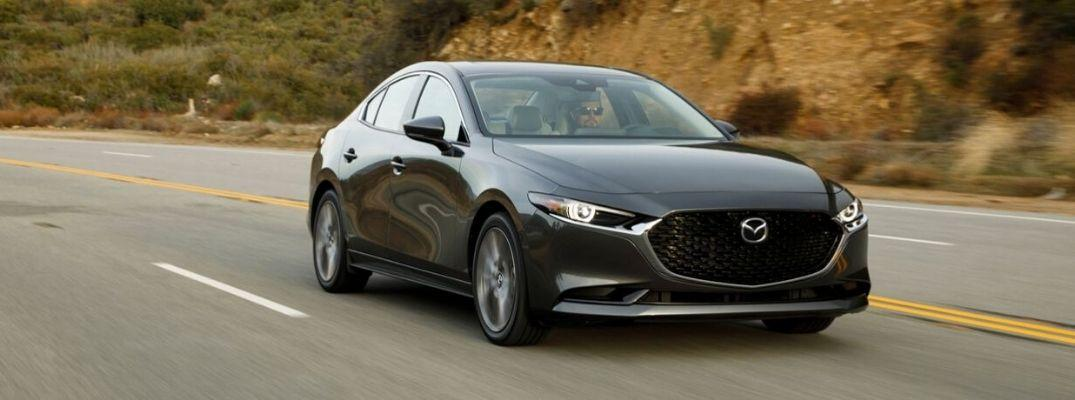car: (297, 42, 881, 342)
